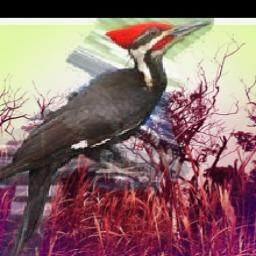Woodpecker: (0, 18, 214, 256)
